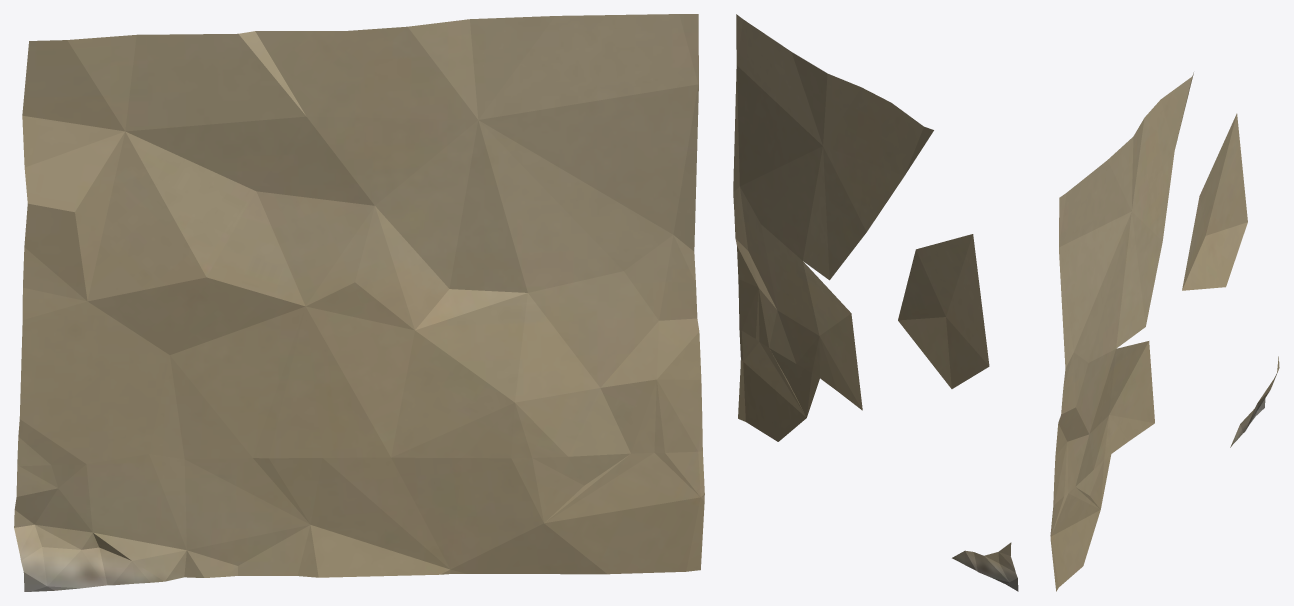
3 renders of one model, left to right at view 1: azimuth 30°, elevation 25°; view 2: azimuth 150°, elevation 25°; view 3: azimuth 270°, elevation 25°, orthographic. The views are drawn at different scales.
Bounding box in the file's own units: 0.8373 × 0.8374 × 0.441.
Materials: 3 (3 with a texture image).
